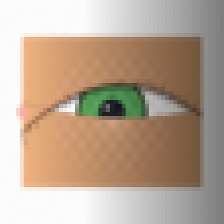pinguecula_lesion: (167, 91, 202, 119)
